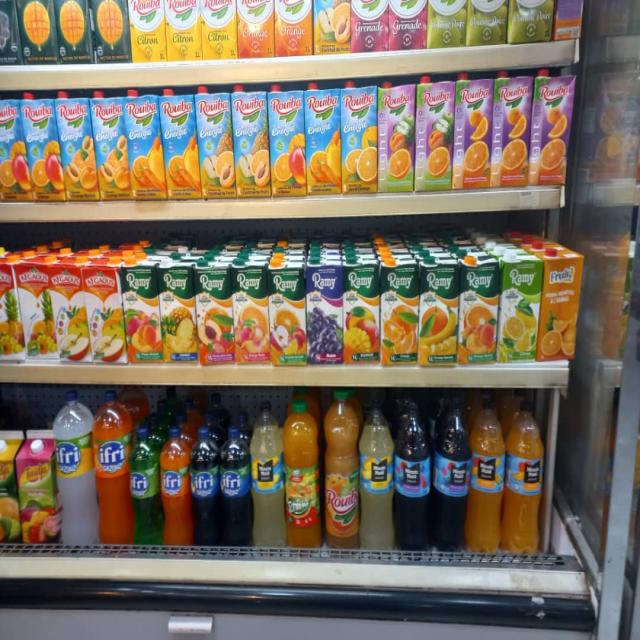ngaous_carton: (14, 250, 57, 363), (79, 255, 124, 362), (43, 254, 86, 363)
ramy_carton: (497, 252, 542, 364), (458, 258, 503, 367), (419, 256, 460, 368), (192, 258, 234, 366), (376, 258, 417, 368), (157, 255, 197, 365), (122, 260, 165, 362), (267, 258, 306, 368), (230, 258, 269, 368), (305, 257, 344, 366), (342, 258, 381, 366)
rouiba_carton: (528, 76, 578, 186), (492, 73, 534, 191), (157, 91, 201, 202), (452, 74, 493, 193), (414, 76, 455, 195), (193, 88, 236, 201), (52, 94, 96, 202), (230, 87, 272, 200), (19, 94, 62, 202), (88, 93, 130, 203), (120, 92, 162, 202), (377, 80, 415, 195), (340, 82, 378, 196), (266, 86, 304, 200), (304, 84, 339, 197), (0, 95, 32, 204), (130, 0, 164, 62)
